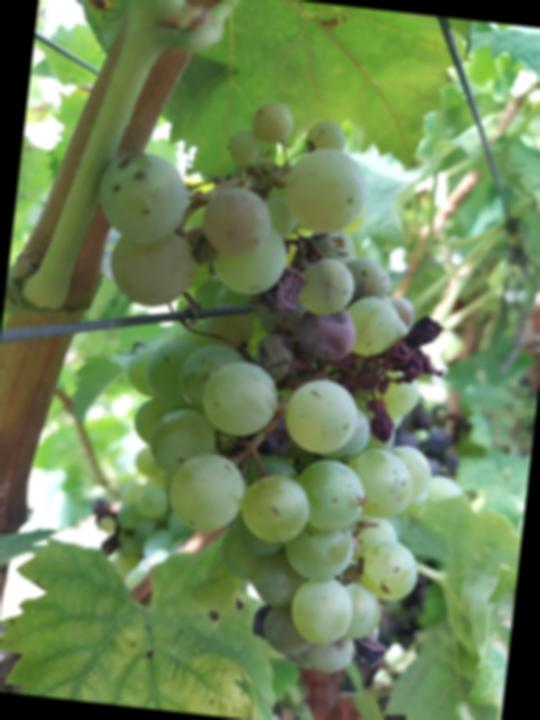grape: (46, 80, 476, 686)
